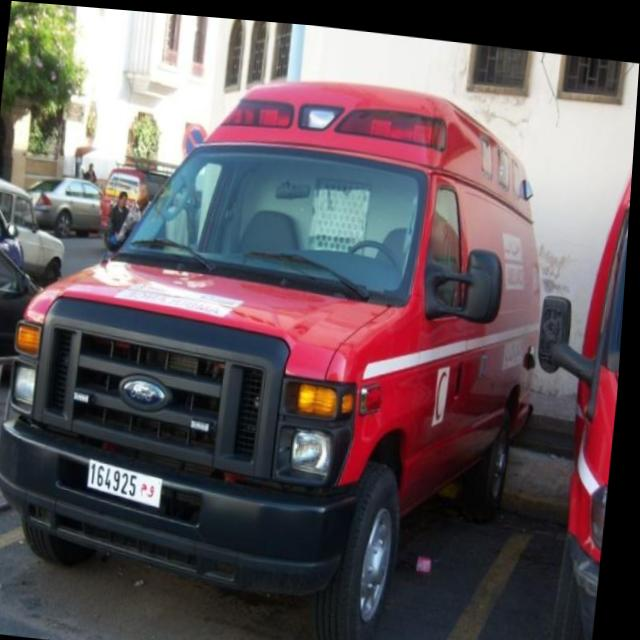ambulance: (0, 22, 593, 640)
